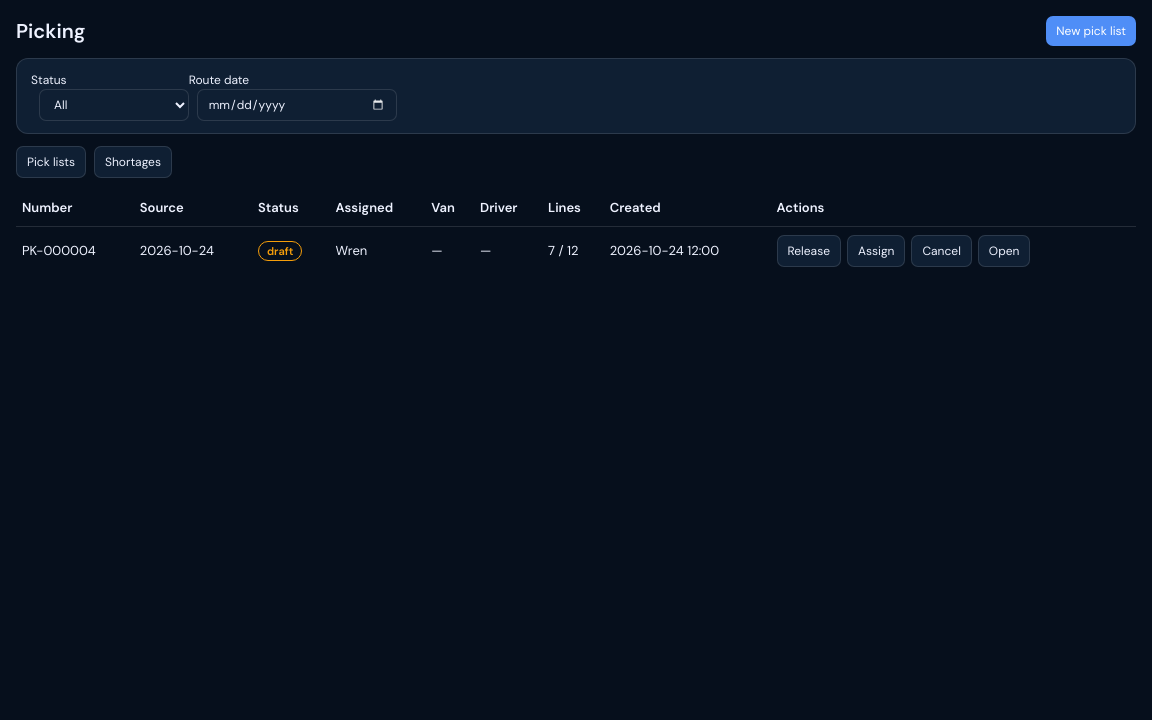
Picking board › shows a 409 detail inline
The image size is (1152, 720).
Click the button "New pick list" at x=1091, y=31, box [1046,16,1136,46]
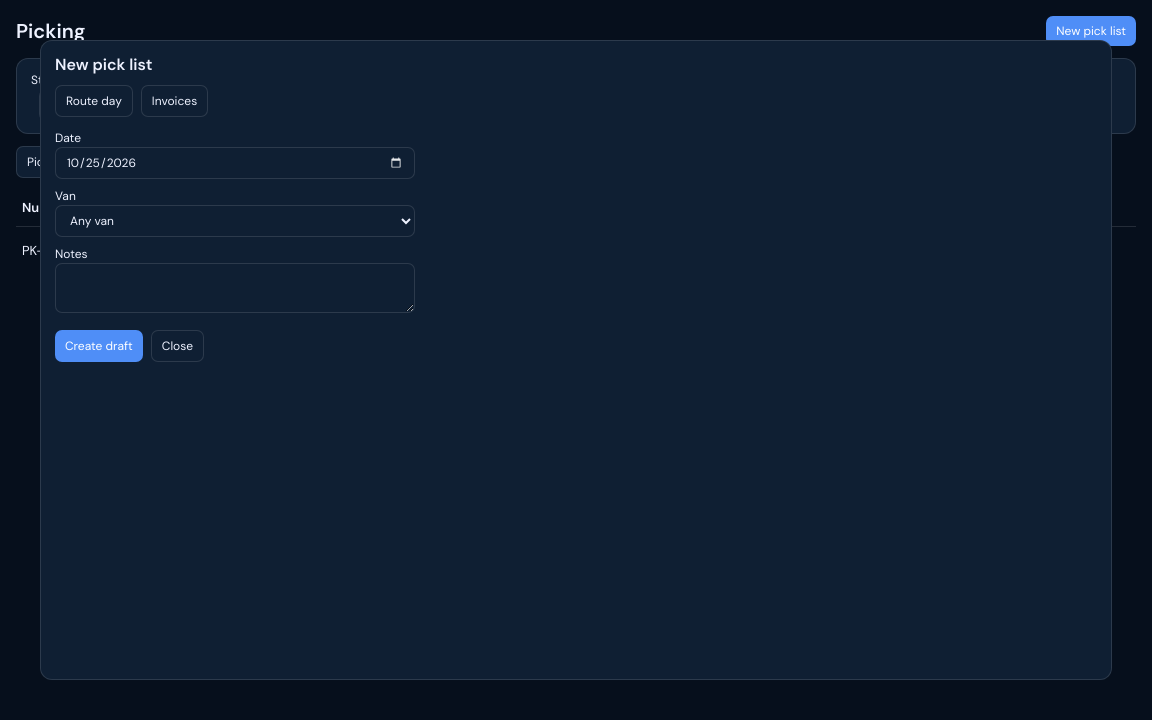
Result: the button "Invoices" is shown
Click the button "Invoices" at x=175, y=101, box [141,85,208,117]
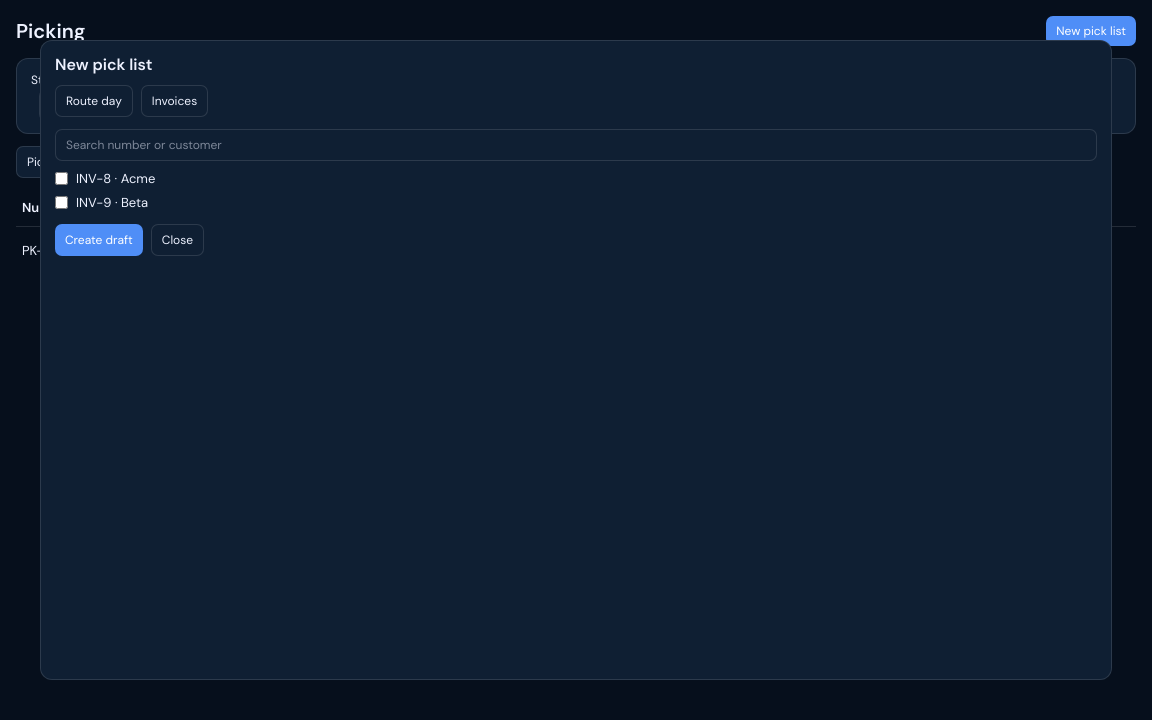
Click the checkbox named "Select INV-8" at x=62, y=179, box [55,172,68,185]
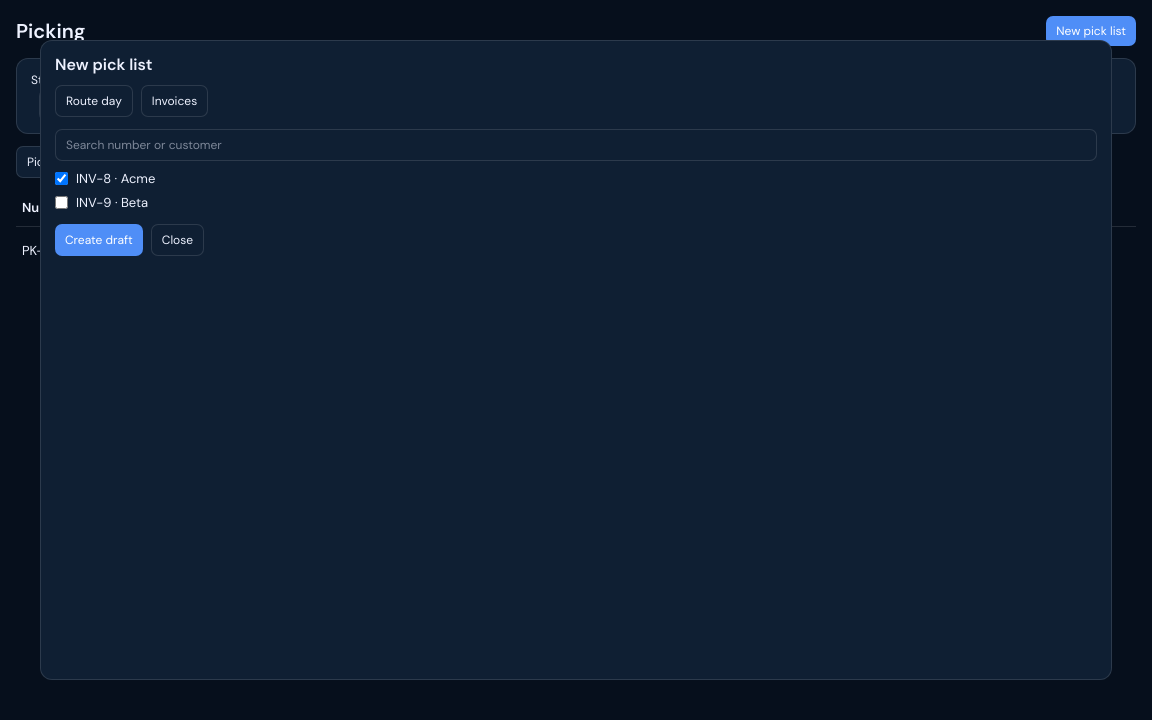
Result: the button "Create draft" is shown
Click the button "Create draft" at x=99, y=240, box [55,224,143,256]
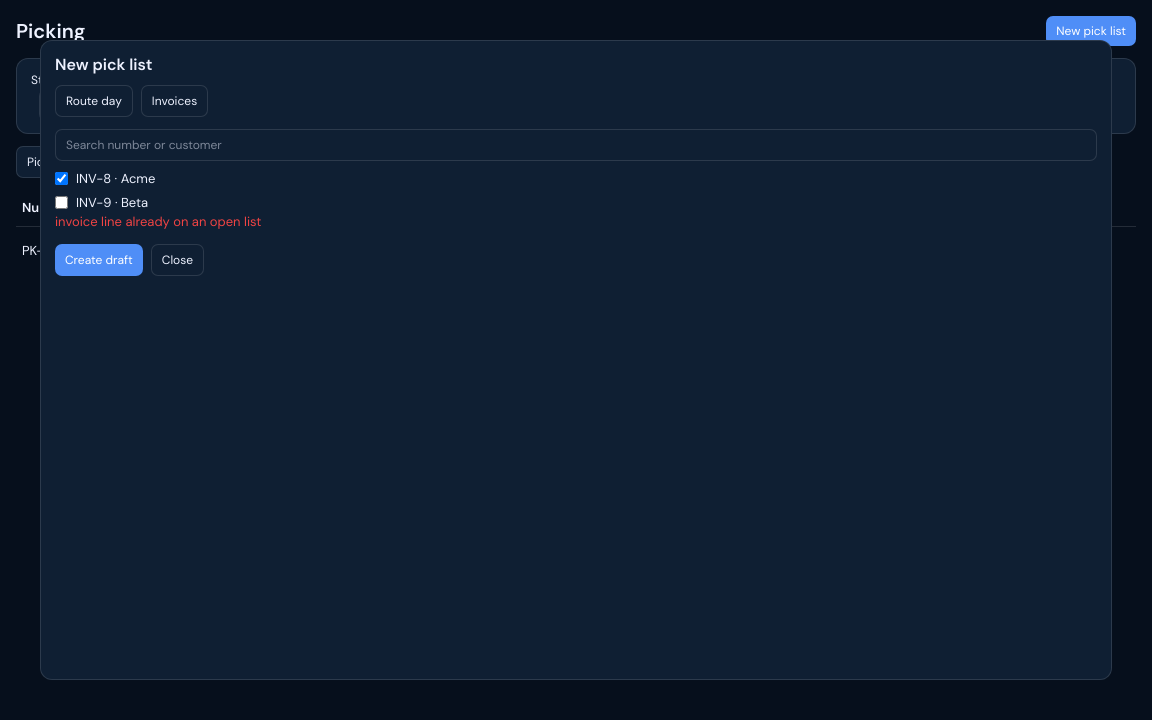
Result: the message with test id "create-error" reads "invoice line already on an open list" at [55,213,261,230]
